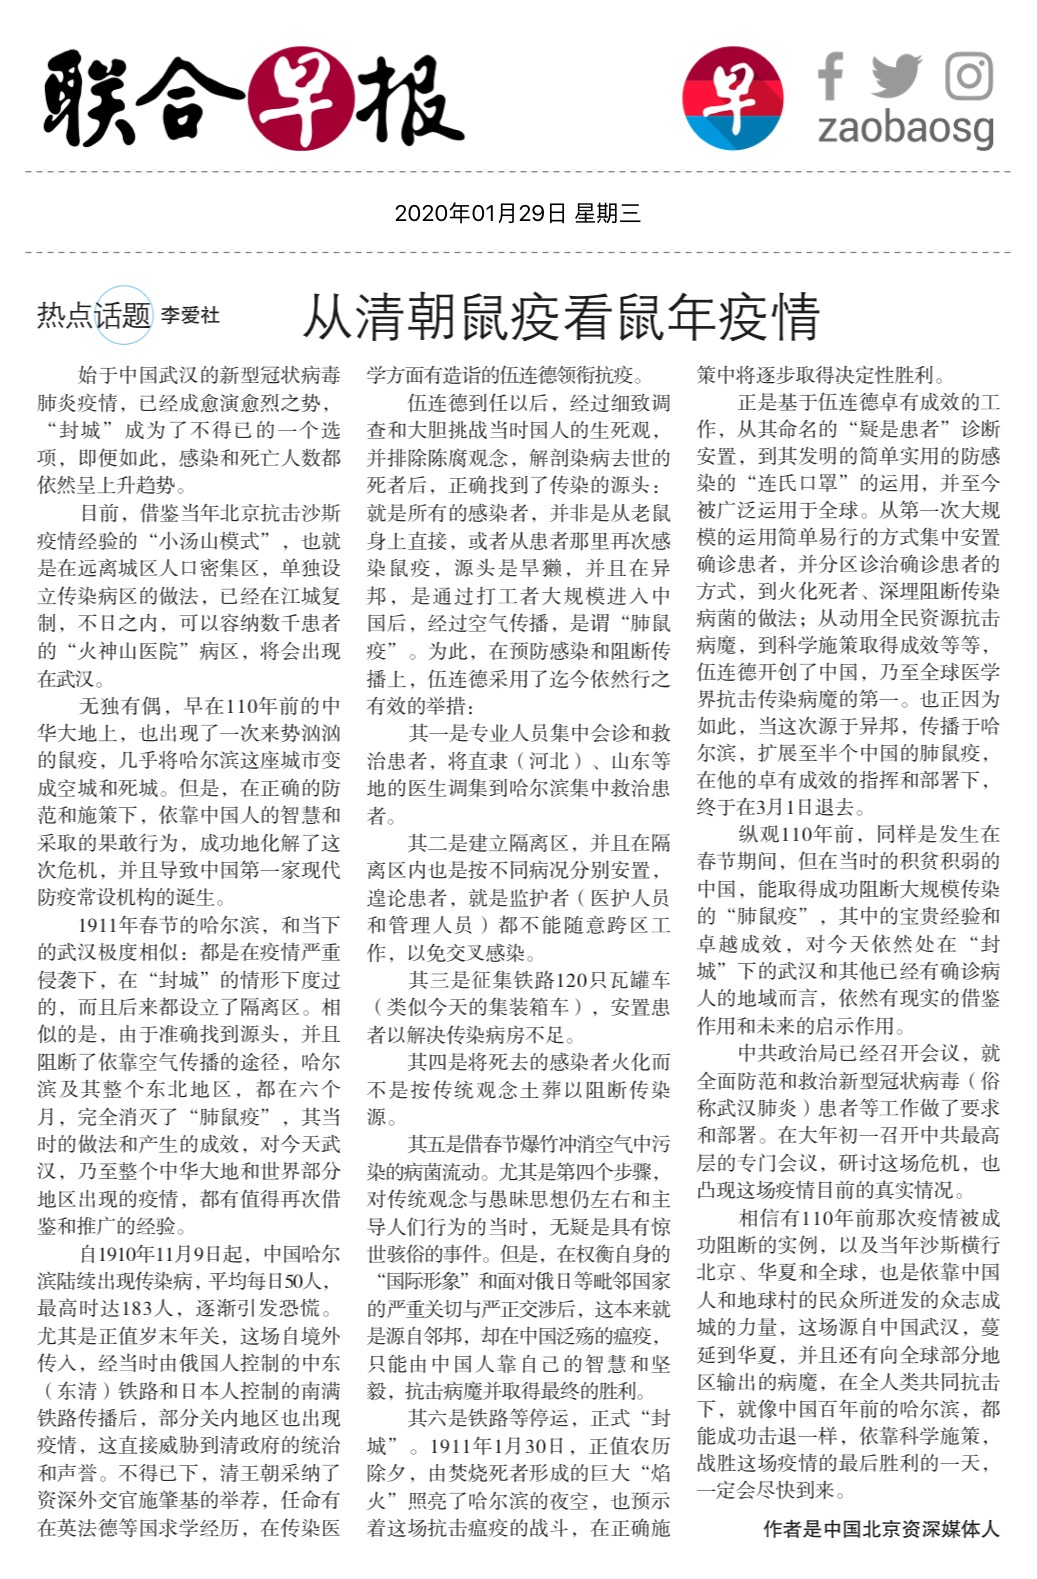heading_test: (294, 278, 825, 349)
